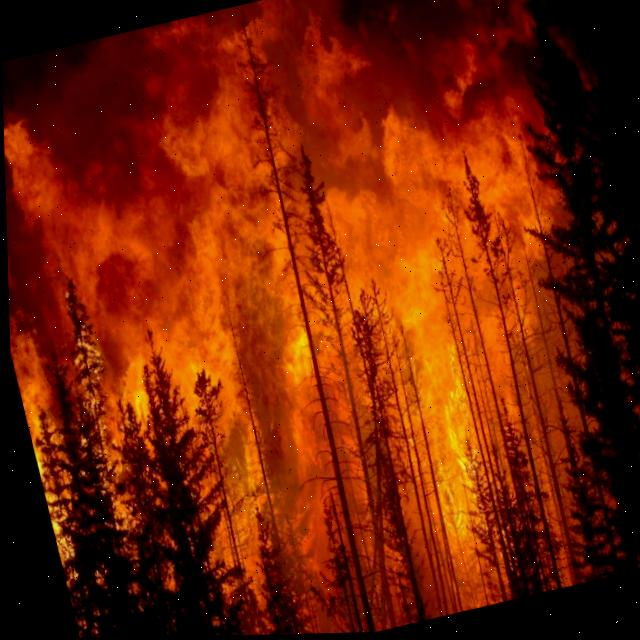fire: (384, 350, 523, 606), (125, 381, 153, 433)
smoke: (1, 0, 638, 396), (219, 345, 397, 635)
